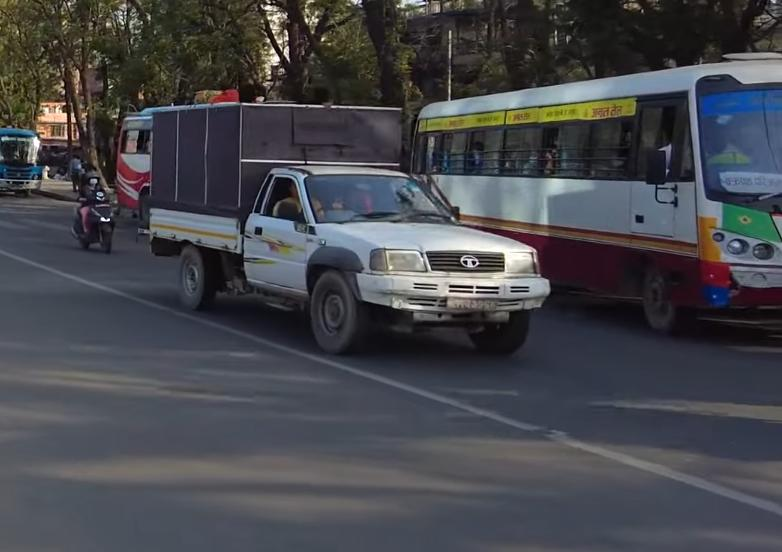bus: (405, 60, 782, 345), (0, 115, 50, 210)
scooter: (74, 175, 121, 262)
transport_vehicle: (142, 96, 554, 365)
